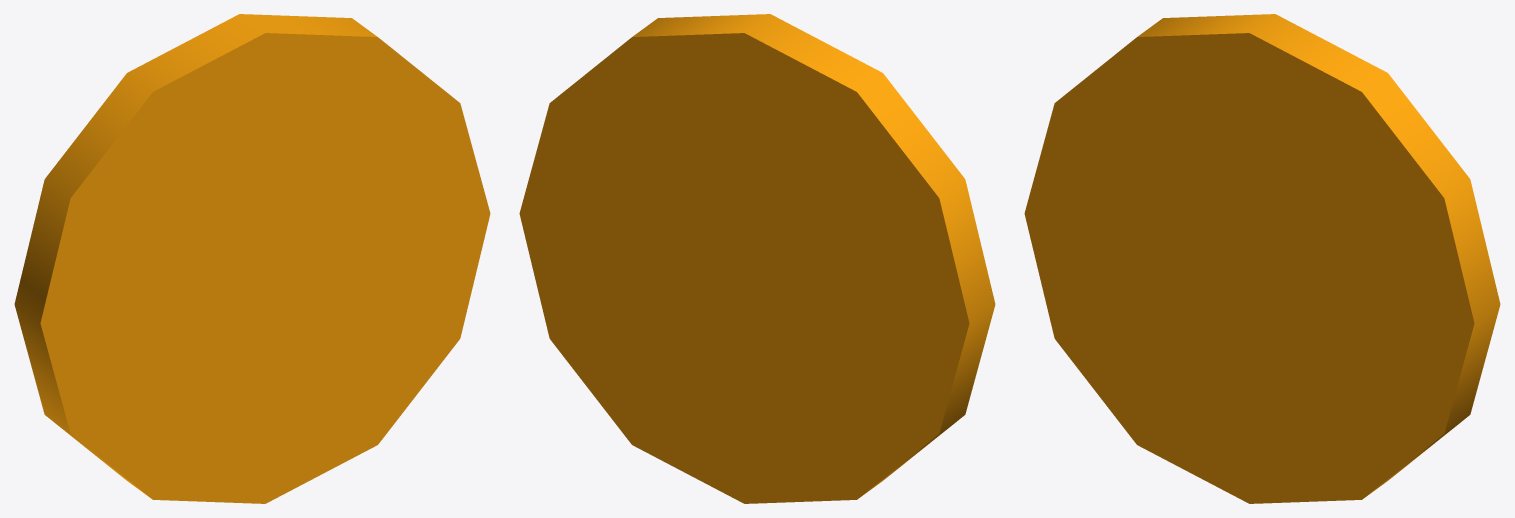
File: Coin.DAE
3 views of the same model, side by side, from view 1: azimuth 30°, elevation 25°; view 2: azimuth 150°, elevation 25°; view 3: azimuth 330°, elevation 25° (orthographic).
Parts seen in each view (by area): view 1: Coin; view 2: Coin; view 3: Coin.
Boxes of the visible parts, x1,y1,x2,y2 form: Coin: (14, 14, 490, 503); Coin: (519, 14, 995, 503); Coin: (1024, 14, 1500, 503).
Size of the model in its own units: 0.5788 by 0.5788 by 0.0579.
